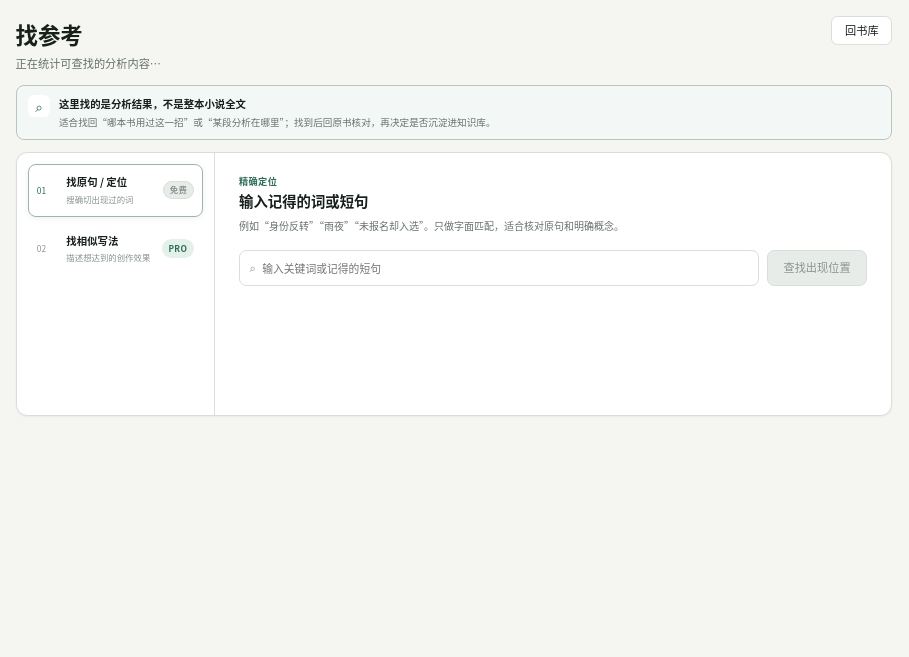
it: 找参考 › 按意思找的结果带着「为什么符合」
The image size is (909, 657).
Click the tab with test id "cb-mode-meaning".
click(115, 248)  # box [28,222,203,275]
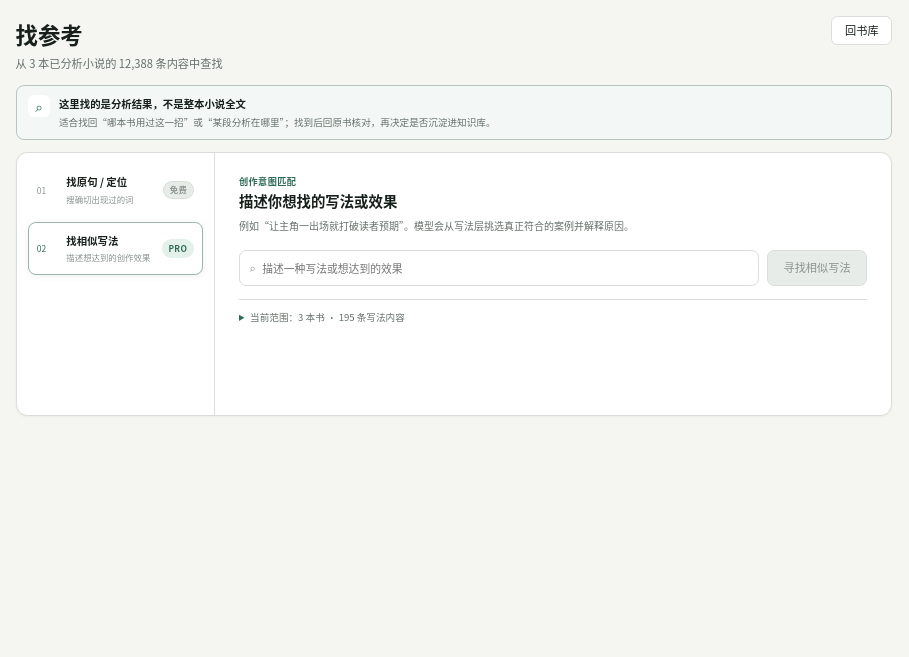
Type "开场就打破预期" into the field with test id "cb-input".
click(506, 268); type("开场就打破预期")  # box [262,251,749,285]
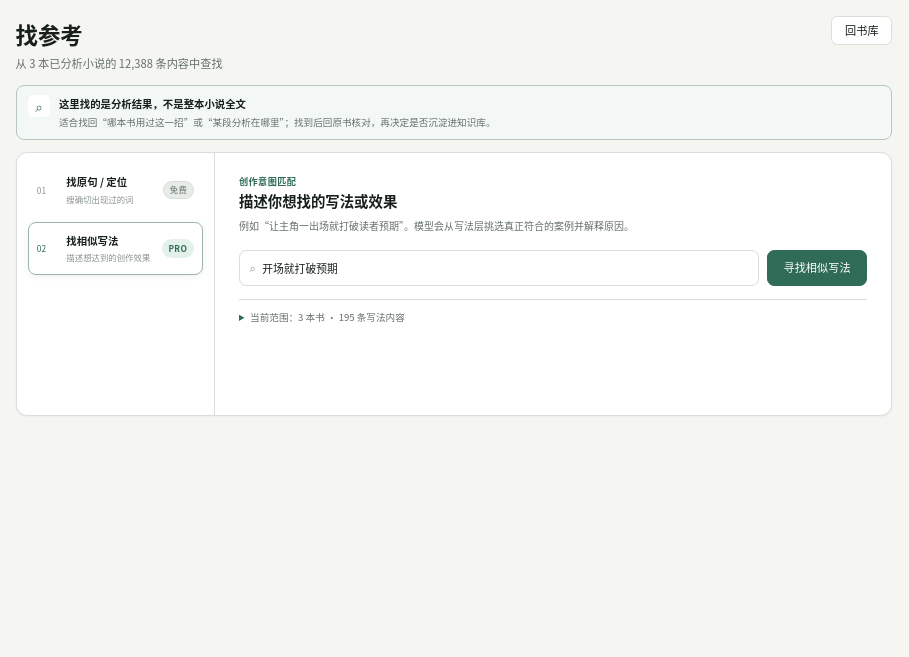
Click the button with test id "cb-run".
click(817, 268)  # box [767,250,867,286]
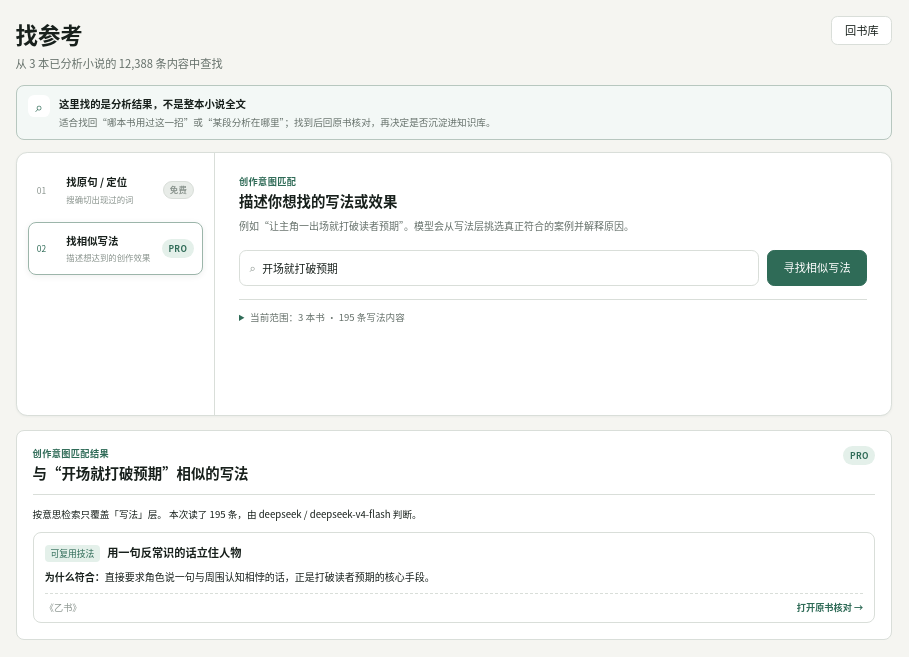
Now the list item with test id "cb-match-technique" shows "用一句反常识的话立住人物", box [107,544,242,560]
Now the list item with test id "cb-match-technique" shows "正是打破读者预期的核心手段", box [105,569,435,584]
